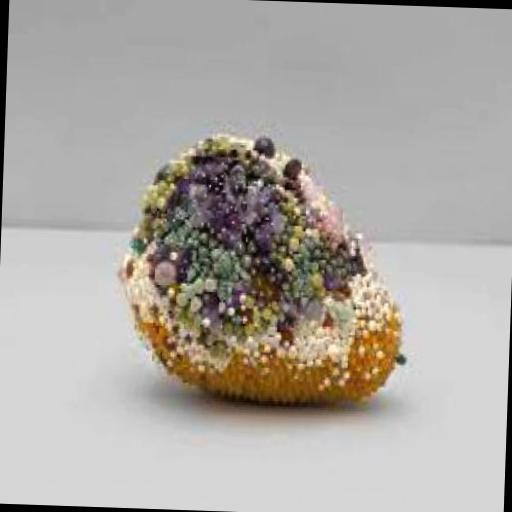biodegradable: (111, 128, 412, 405)
